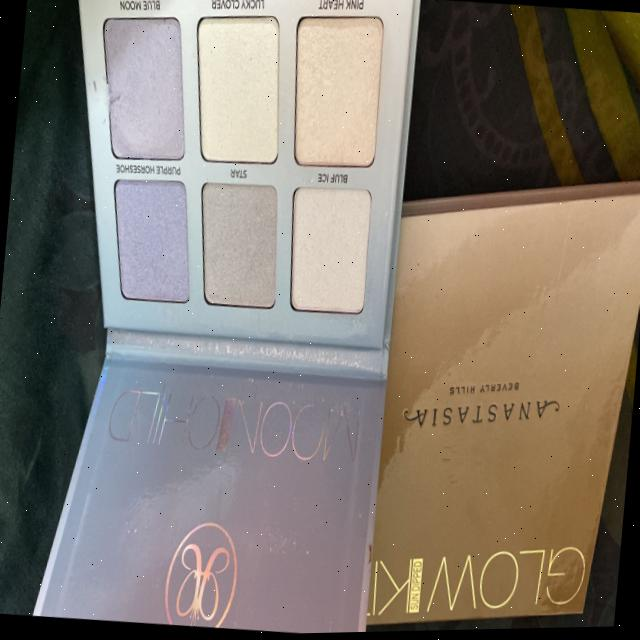highlighter: (279, 2, 395, 179), (184, 1, 292, 179), (88, 9, 200, 177), (278, 176, 376, 327), (100, 169, 202, 313), (186, 175, 286, 318)
